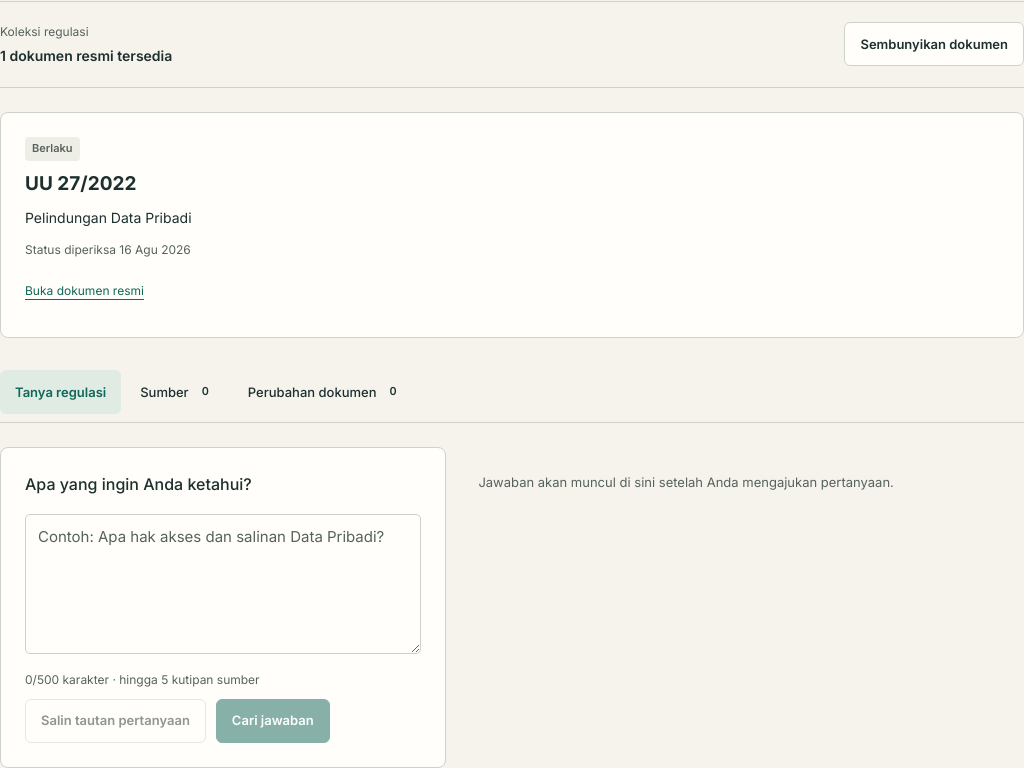
Test case: RegulationLens › renders grounded citations and opens surrounding context
(page scrolled)
Check: the heading "UU 27/2022" is shown, box [25, 171, 136, 198]
Check: the button "Cari jawaban" is disabled, box [216, 699, 330, 743]
Type "Apa hak akses dan salinan Data Pribadi?" into the text box labelled "Apa yang ingin Anda ketahui?".
click(223, 584); type("Apa hak akses dan salinan Data Pribadi?")  # box [25, 514, 421, 654]
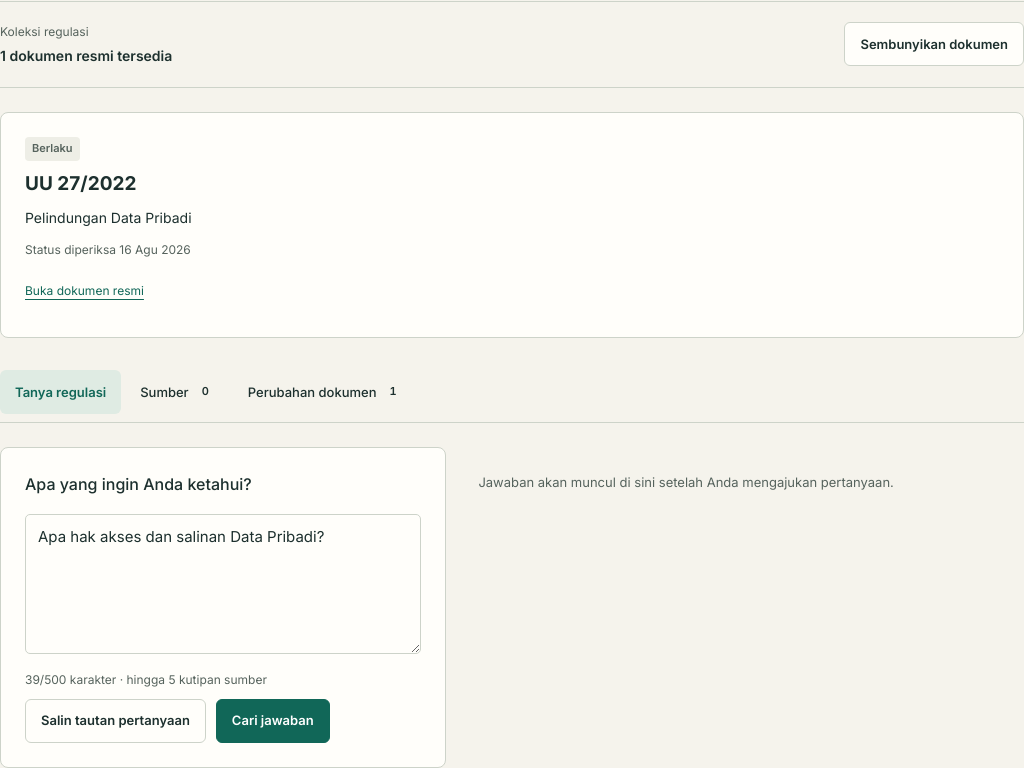
Click the button "Cari jawaban".
click(273, 721)  # box [216, 699, 330, 743]
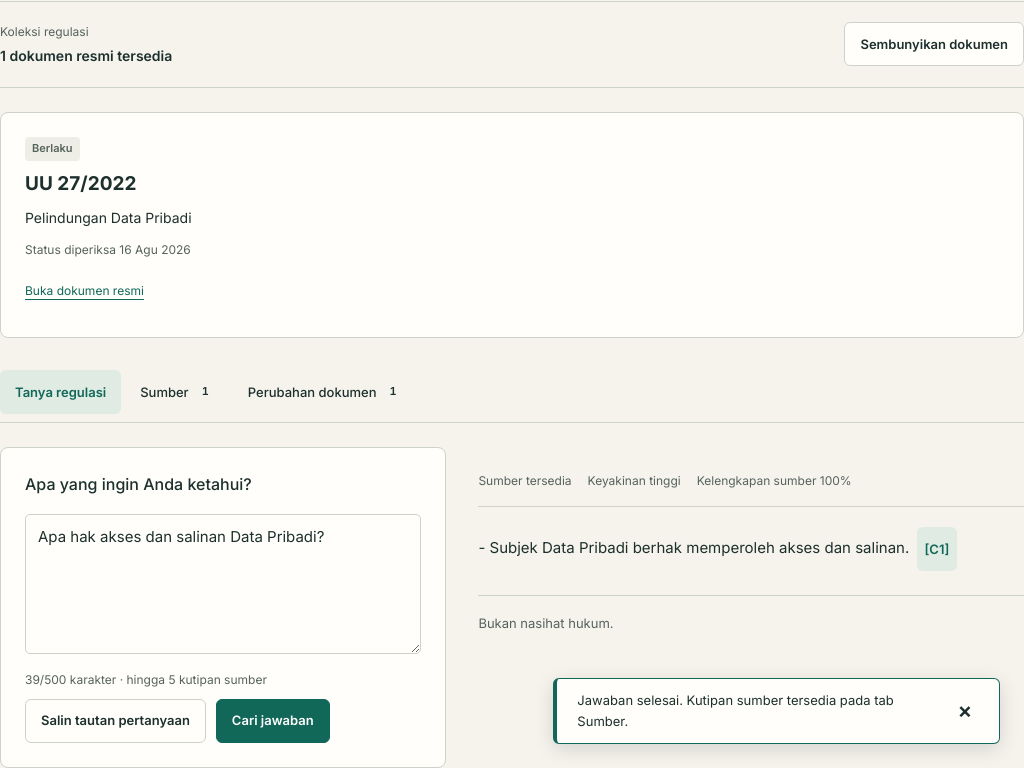
Check: the text "Sumber tersedia" is shown, box [478, 471, 572, 490]
Click the button named "Buka sumber C1".
click(937, 549)  # box [916, 527, 957, 571]
(page scrolled)
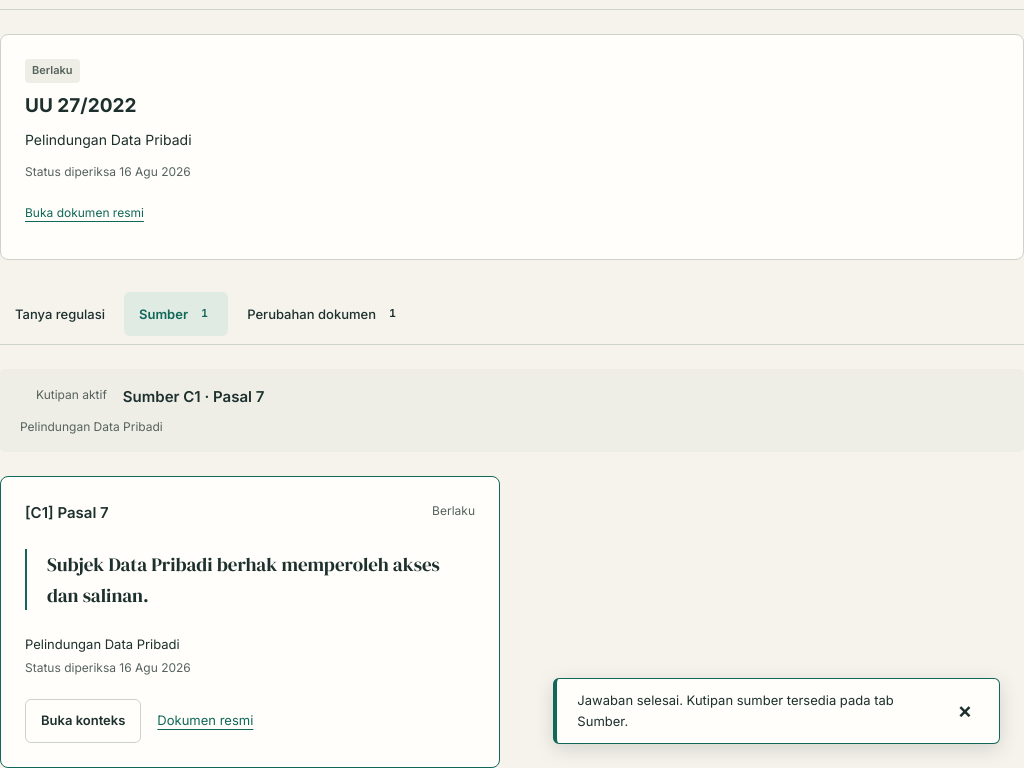
Check: the text "[C1] Pasal 7" is shown, box [25, 501, 109, 525]
Click the button "Buka konteks".
click(83, 721)  # box [25, 699, 141, 743]
(page scrolled)
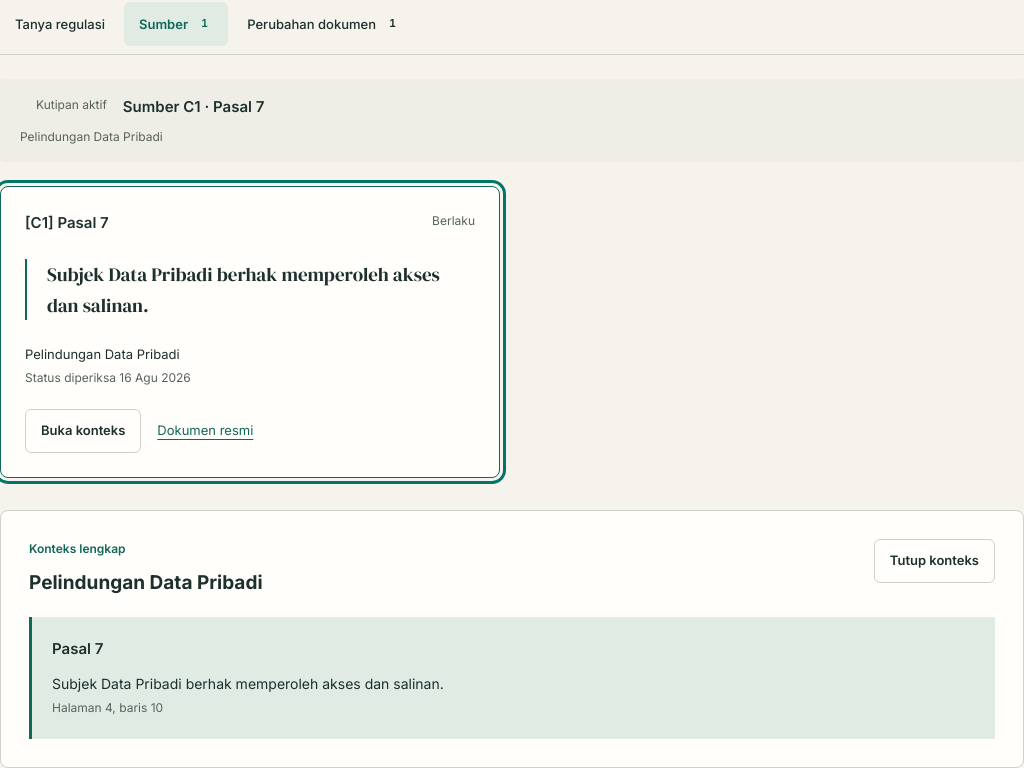
Check: the heading "Pelindungan Data Pribadi" is shown, box [29, 570, 262, 597]
Check: the text "Halaman 4, baris 10" is shown, box [52, 700, 163, 715]
